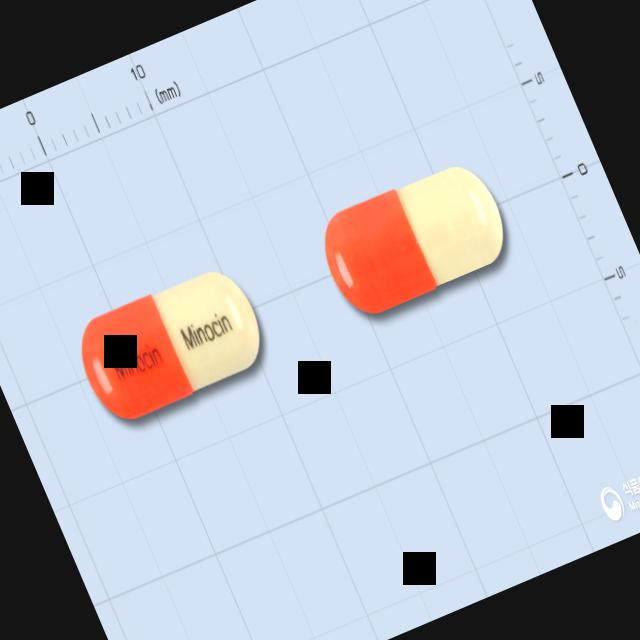Minocin Cap: (65, 256, 275, 431)
